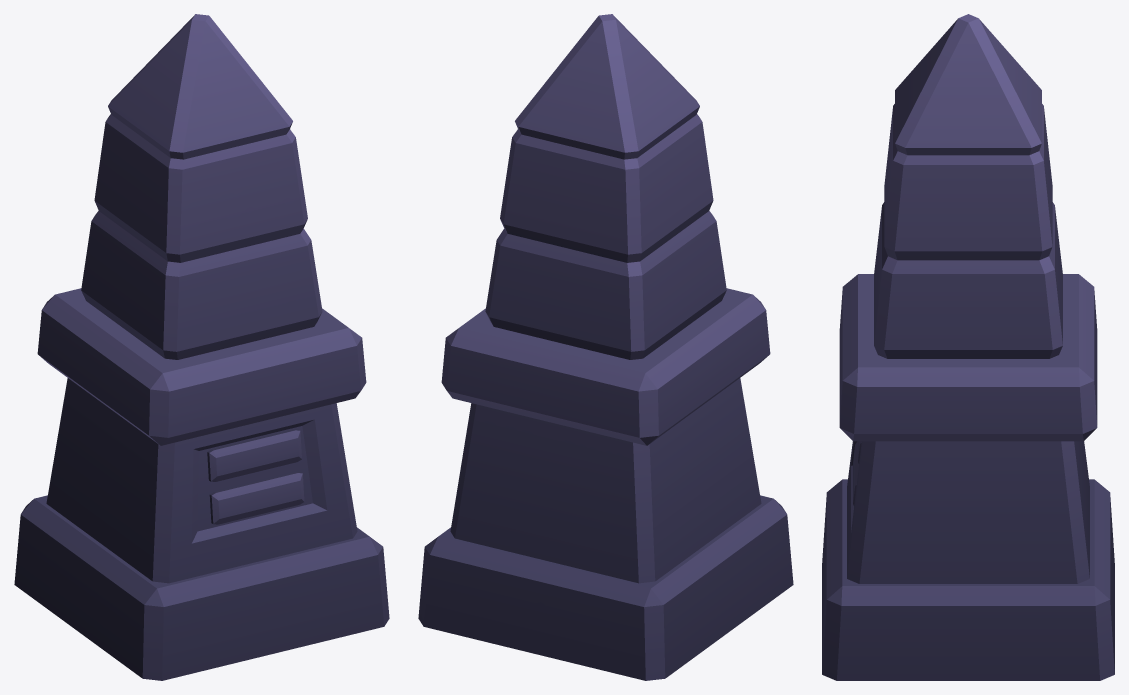
Rendered from tomb_1.glb.
3 renders of one model, left to right at view 1: azimuth 30°, elevation 25°; view 2: azimuth 150°, elevation 25°; view 3: azimuth 270°, elevation 25°, orthographic. The views are drawn at different scales.
Parts seen in each view (by area): view 1: tomb_1; view 2: tomb_1; view 3: tomb_1.
Boxes of the visible parts, x1=… form: tomb_1: x1=14, y1=14, x2=389, y2=680; tomb_1: x1=418, y1=14, x2=793, y2=680; tomb_1: x1=822, y1=14, x2=1114, y2=680.
Size of the model in its own units: 2 by 4.52 by 2.
1 material, 1 textured.
